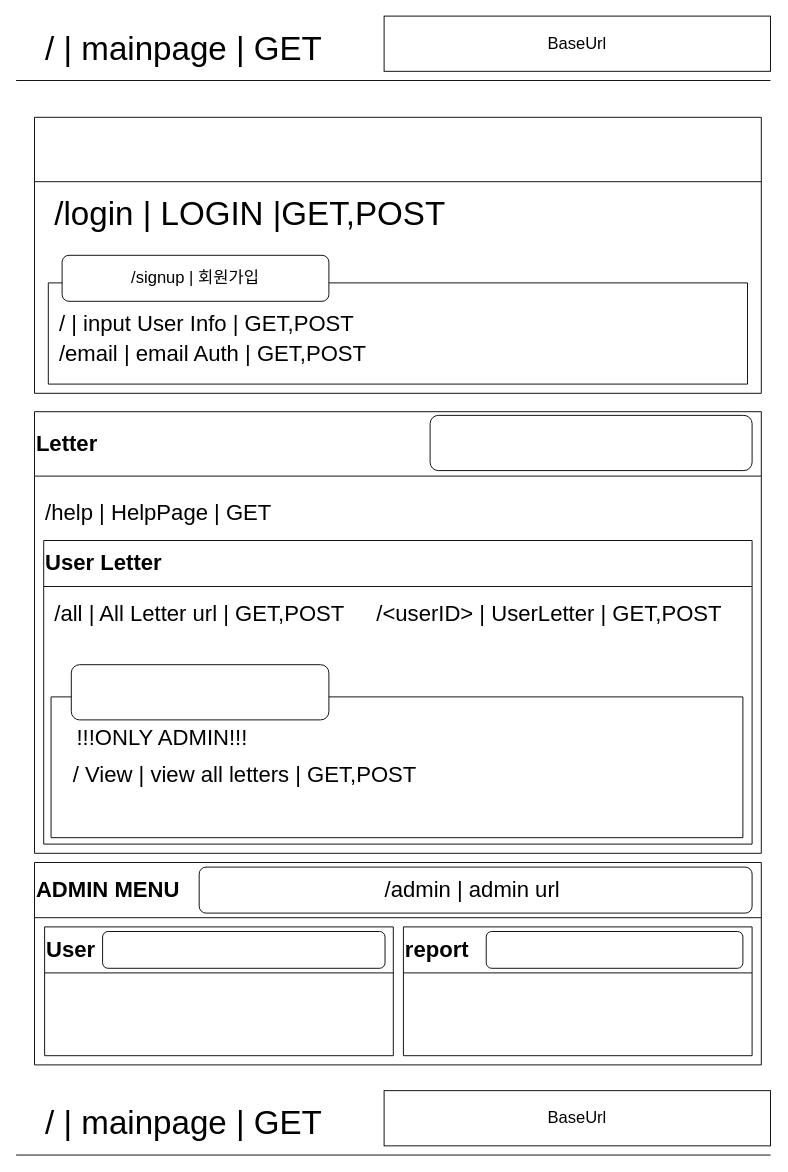
Some shapes in this 788 by 1172 pixel diagram are drawn without their labels. The box of each missing label's shape, as (x1, y1, x2, y2) in pixels:
/Letter | Letter frame base url: (429, 414, 752, 471)
/report | Show report: (485, 931, 743, 968)
/User | control user: (102, 931, 385, 968)
Account: (34, 116, 761, 393)
GET Letter: (70, 664, 329, 720)
